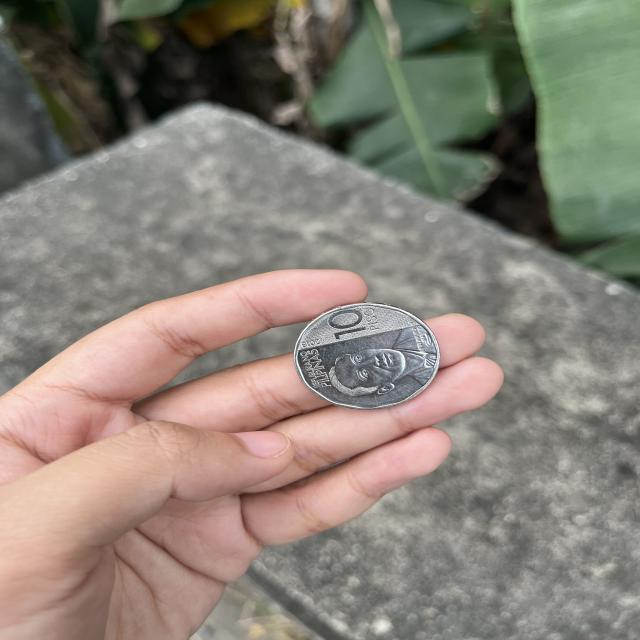10_New_Front: (324, 308, 382, 336)
